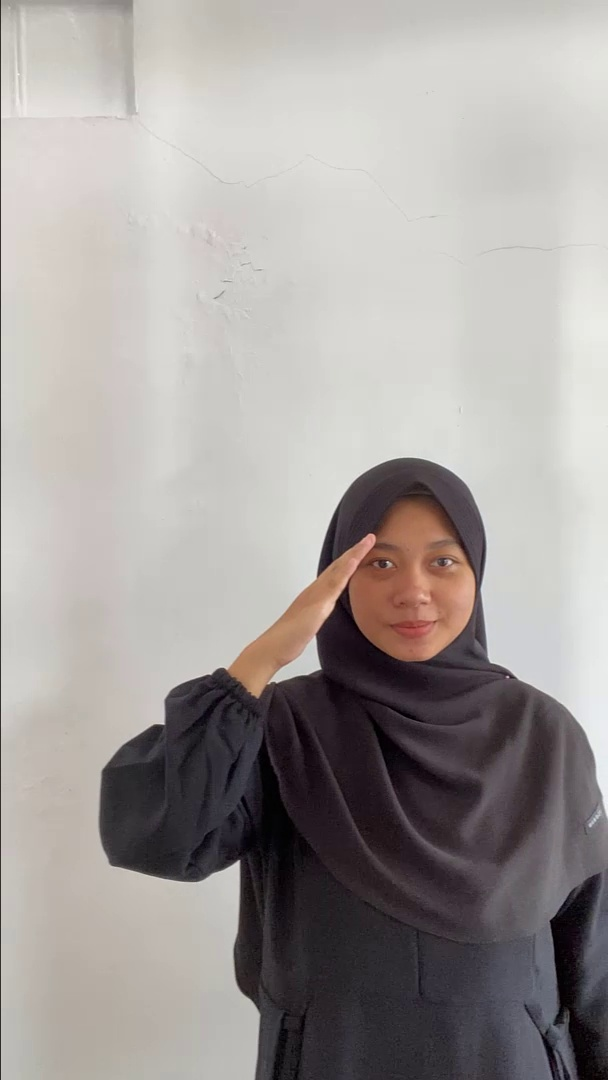SENIN: (219, 526, 381, 713)
